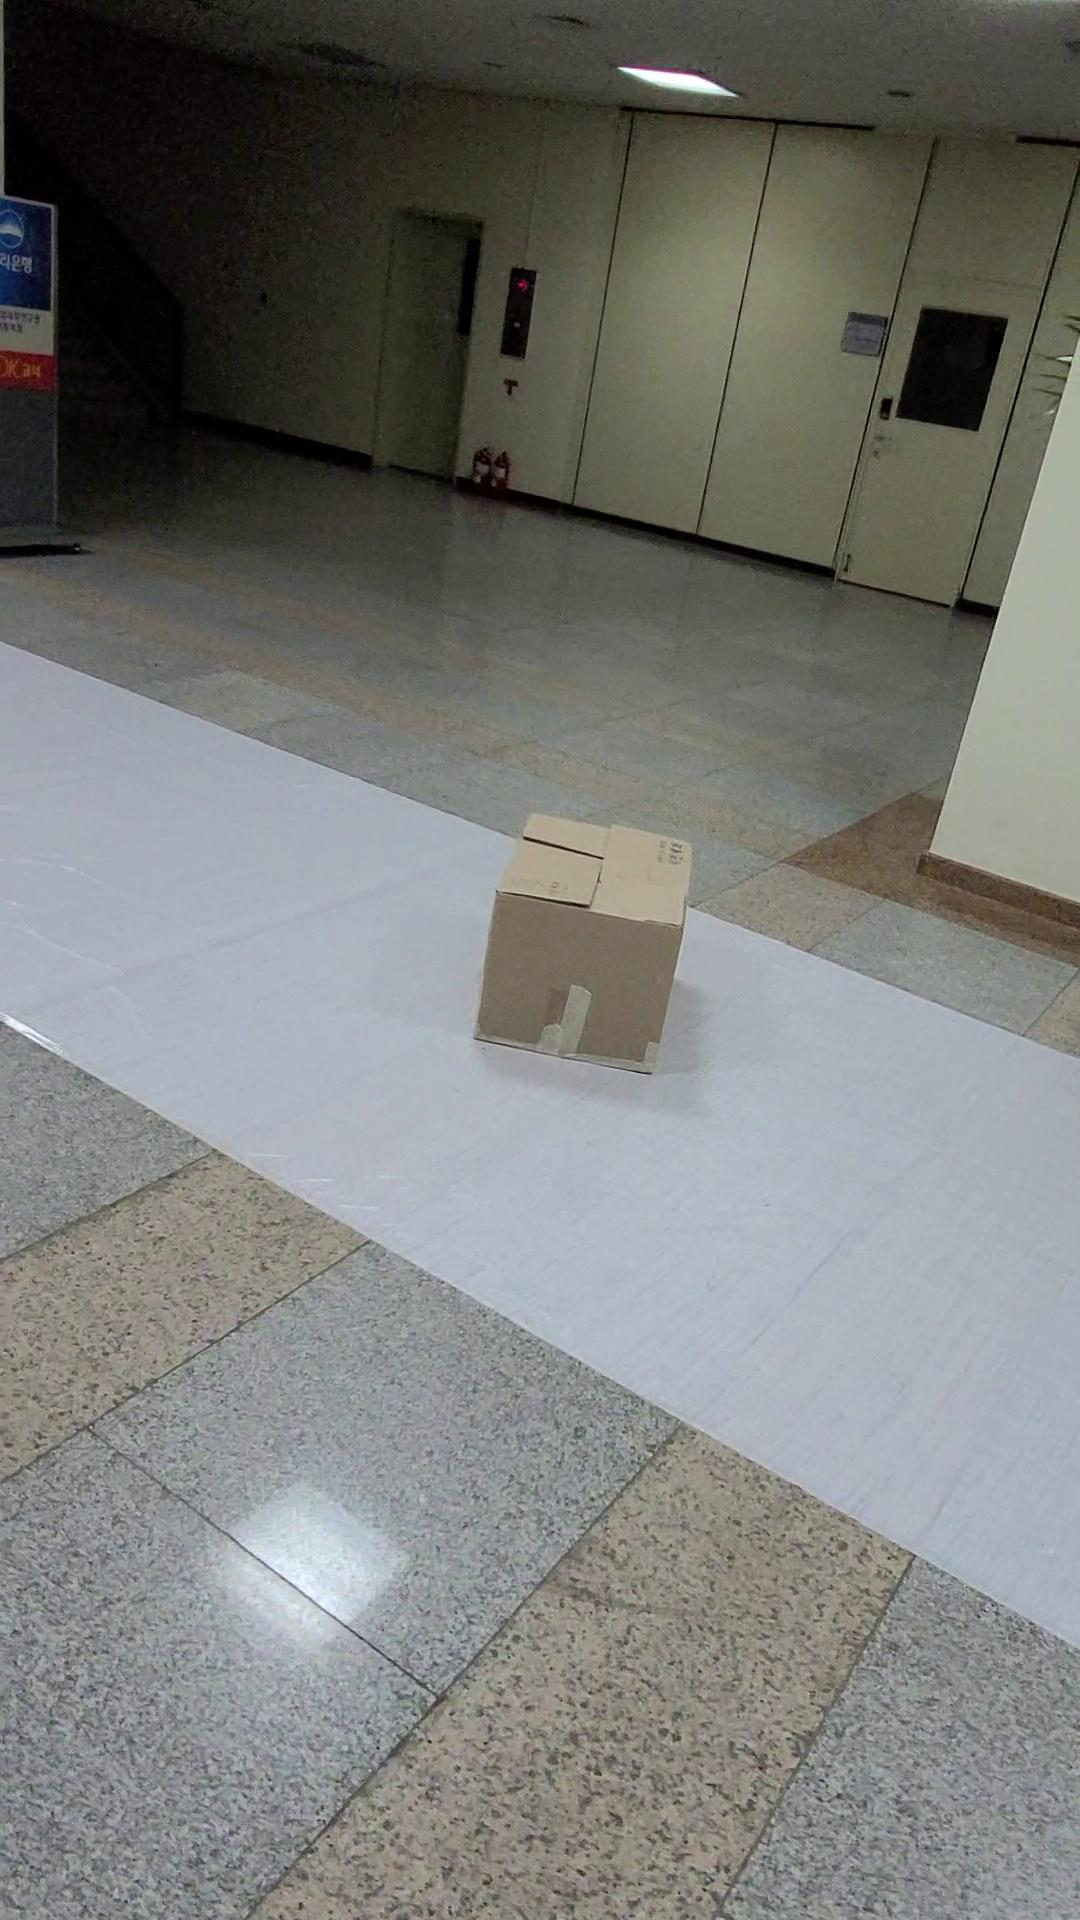Box: (454, 789, 732, 1108)
